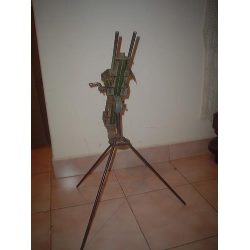rifle: (55, 28, 171, 242)
